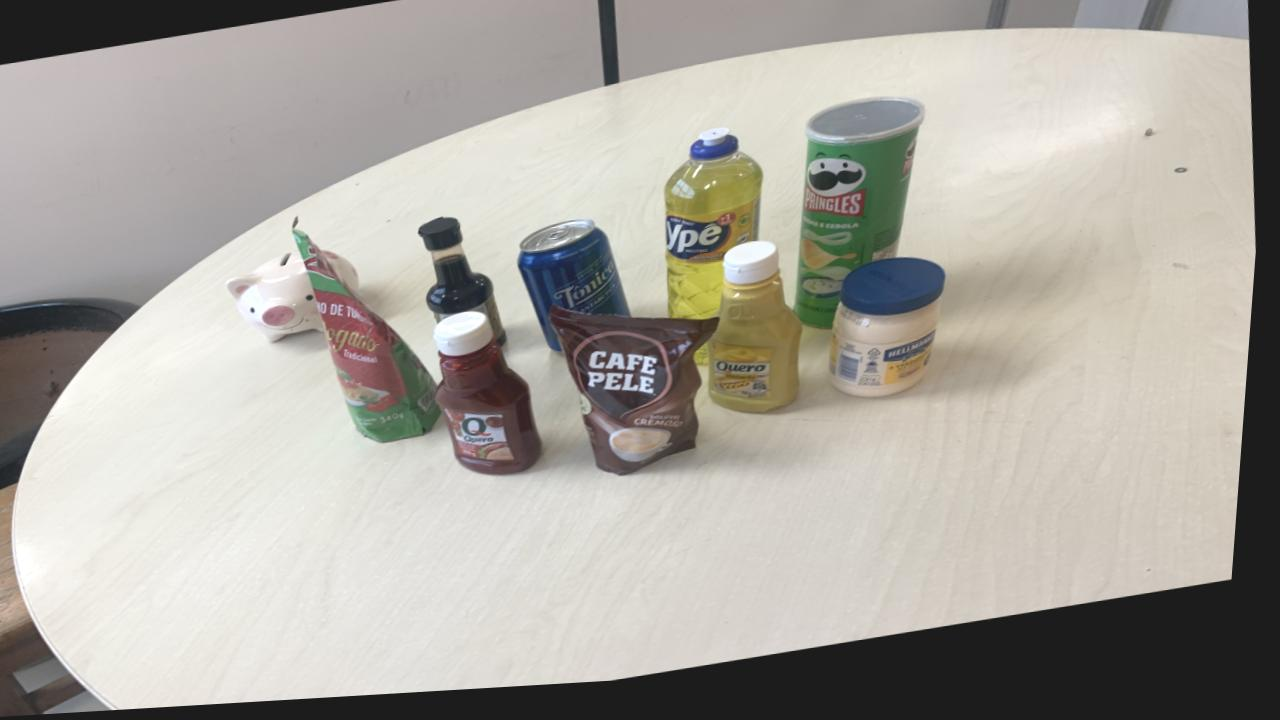Coffee-Pantry_Items: (555, 313, 723, 482)
Detergent-Cleanup_Items: (668, 136, 766, 328)
English_Sauce-Pantry_Items: (423, 222, 512, 351)
Ketchup-Pantry_Items: (440, 316, 550, 481)
Mayonnaise-Pantry_Items: (835, 268, 950, 408)
Mustard-Pantry_Items: (715, 250, 808, 422)
Pig_Safe-Miscellaneous: (231, 255, 329, 345), (331, 257, 365, 295)
Pringles-Snacks: (799, 107, 927, 338)
Tomato_Sauce-Pantry_Items: (297, 234, 447, 447)
Tonic-Drinks: (523, 226, 636, 358)
